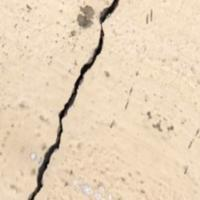crack: (12, 0, 128, 199)
